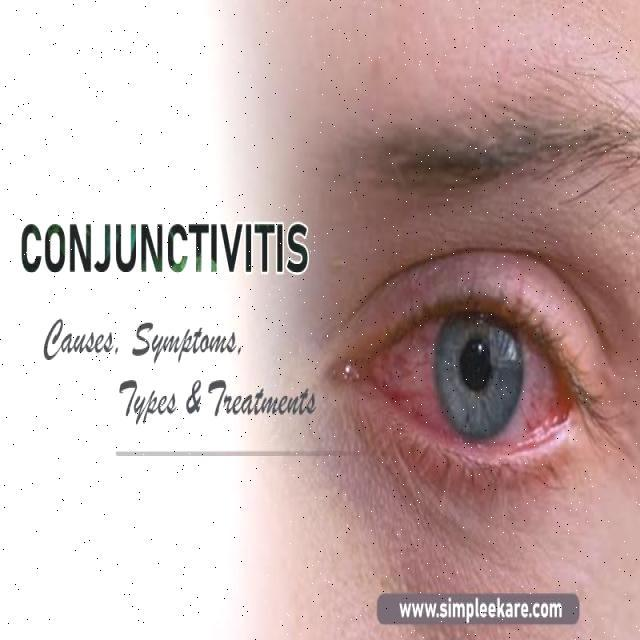Conjunctivitis: (333, 336, 588, 446)
